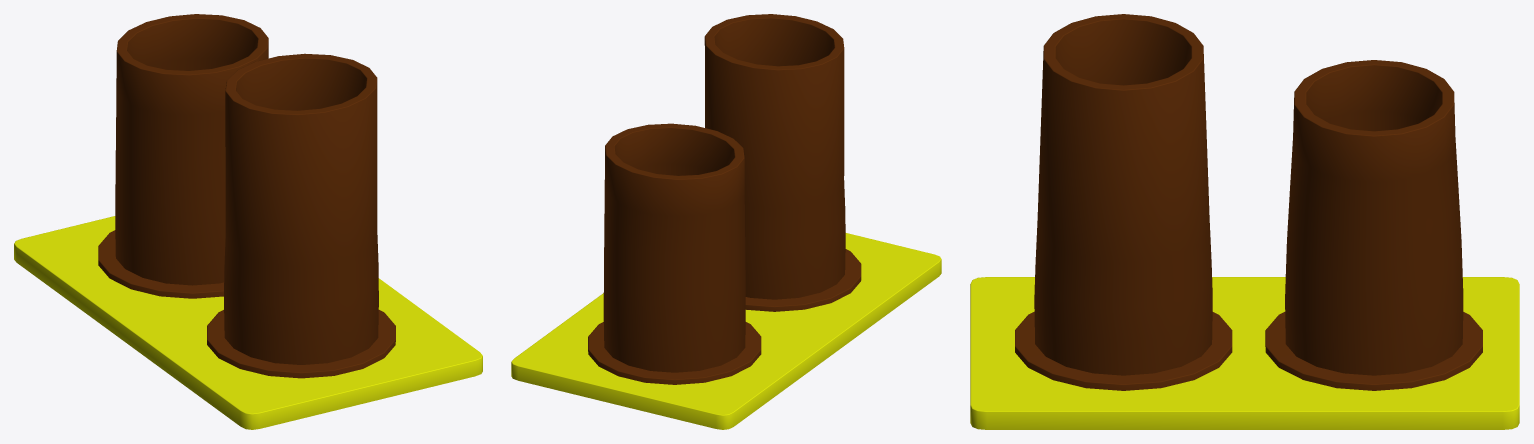
Rendered from Cheminee_Metal_02.fbx.
3 views of the same model, side by side, from view 1: azimuth 30°, elevation 25°; view 2: azimuth 150°, elevation 25°; view 3: azimuth 270°, elevation 25° (orthographic). The views are drawn at different scales.
Visible parts, largest first — view 1: Cheminee_Metal_02_LOD0; view 2: Cheminee_Metal_02_LOD0; view 3: Cheminee_Metal_02_LOD0.
Part boxes in pixels (<box>): Cheminee_Metal_02_LOD0: <box>14,14,482,429</box>; Cheminee_Metal_02_LOD0: <box>511,14,941,429</box>; Cheminee_Metal_02_LOD0: <box>970,14,1519,429</box>.
Size of the model in its own units: 78.55 by 84.41 by 135.
